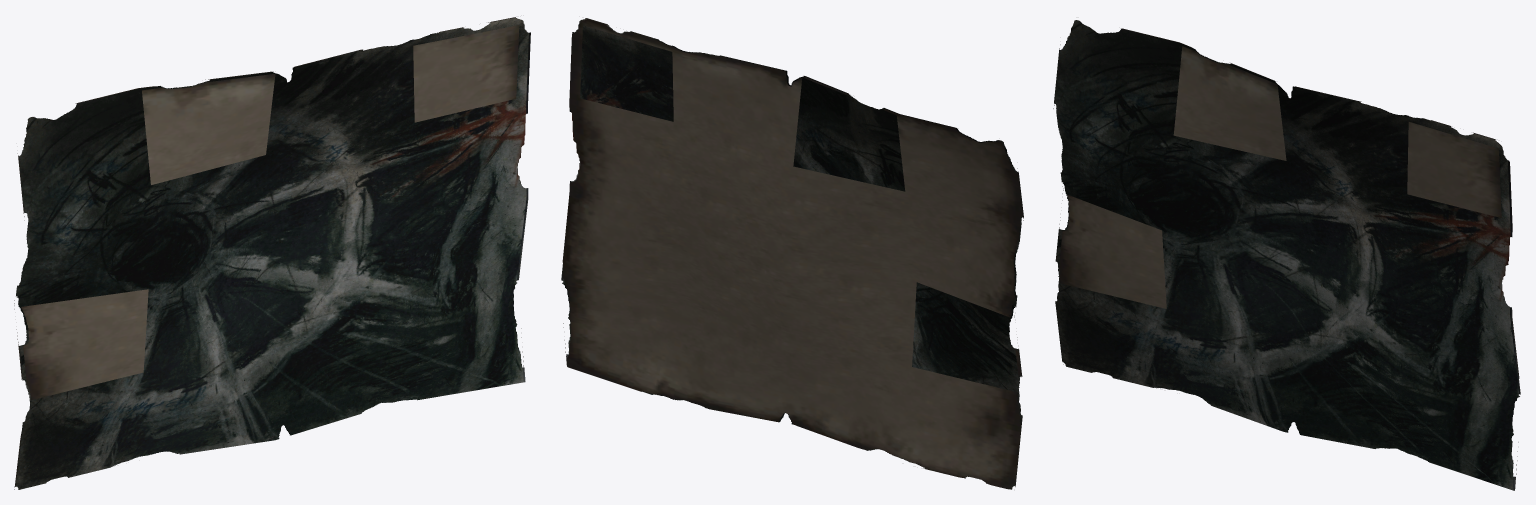
File: transformation_poster01.dae
The picture shows the model from 3 angles, left to right: view 1: azimuth 30°, elevation 25°; view 2: azimuth 150°, elevation 25°; view 3: azimuth 330°, elevation 25°; orthographic projection. The views are drawn at different scales.
Parts seen in each view (by area): view 1: pPlane1, pPlane2; view 2: pPlane2, pPlane1; view 3: pPlane1, pPlane2.
Boxes of the visible parts, bbox=[...] form: pPlane1: bbox=[15, 17, 530, 489]; pPlane2: bbox=[14, 17, 523, 489]; pPlane2: bbox=[562, 18, 1023, 489]; pPlane1: bbox=[561, 18, 1023, 489]; pPlane1: bbox=[1054, 20, 1520, 490]; pPlane2: bbox=[1053, 28, 1519, 489].
Bounding box in the file's own units: 0.6 × 0.4315 × 0.0479.
